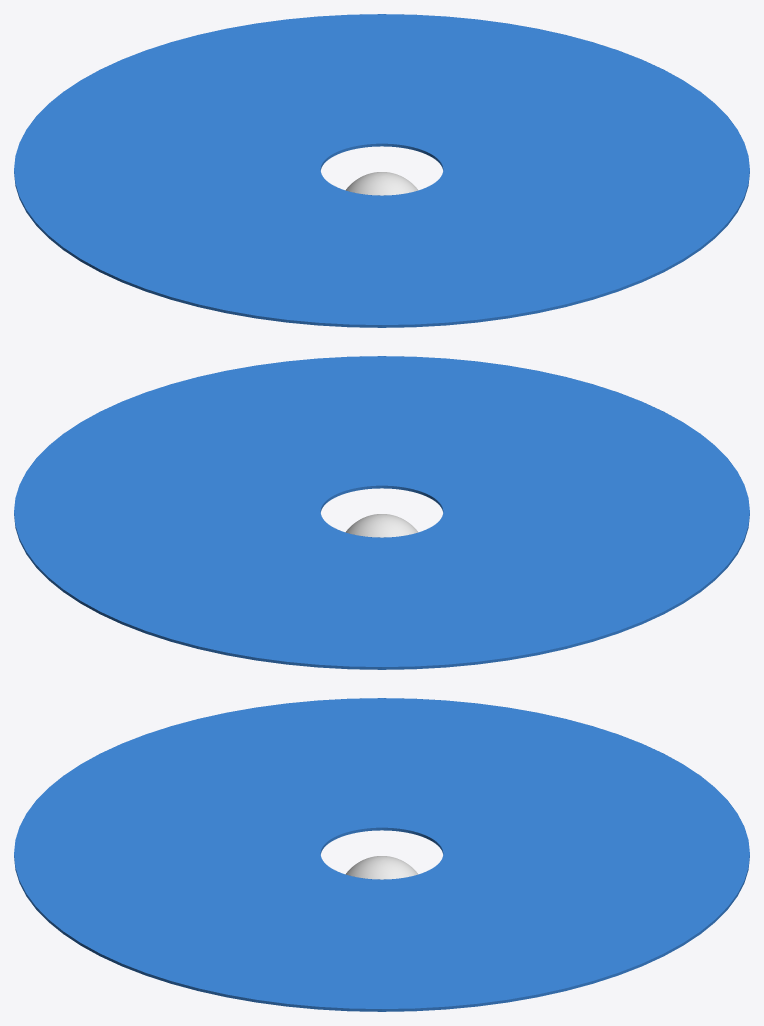
Rendered from DropOff_v1.fbx.
The picture shows the model from 3 angles, top to bottom: view 1: azimuth 30°, elevation 25°; view 2: azimuth 150°, elevation 25°; view 3: azimuth 270°, elevation 25°; orthographic projection.
Parts seen in each view (by area): view 1: DropOff_ground, Clouds; view 2: DropOff_ground, Clouds; view 3: DropOff_ground, Clouds.
Boxes of the visible parts, <box> form: DropOff_ground: <box>14,14,749,327</box>; Clouds: <box>345,172,418,195</box>; DropOff_ground: <box>14,356,749,669</box>; Clouds: <box>345,514,418,537</box>; DropOff_ground: <box>14,698,749,1011</box>; Clouds: <box>345,856,418,879</box>.
Bounding box in the file's own units: 4800 × 645 × 4800.
